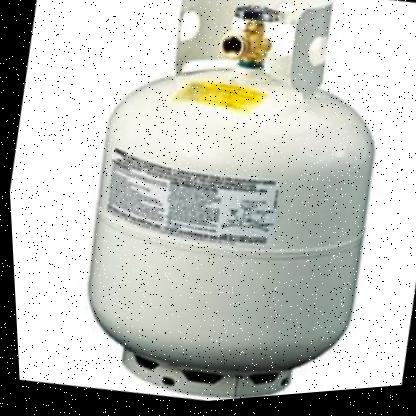gas-tank: (43, 0, 415, 413)
